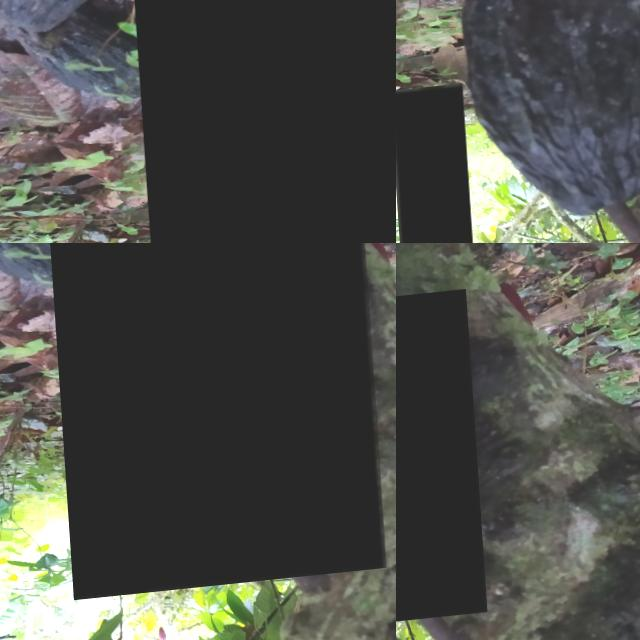Fitoftora: (396, 298, 480, 637)
Monilia: (555, 0, 640, 243), (396, 88, 468, 243)
Sana: (43, 243, 379, 603), (132, 0, 396, 243)
